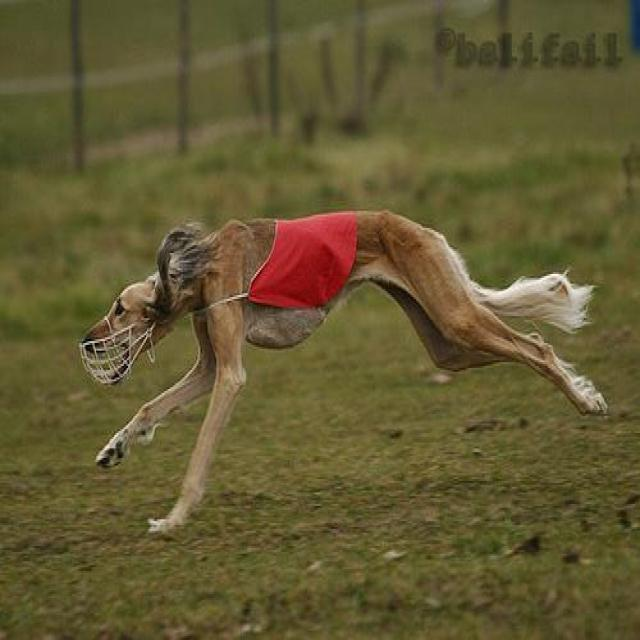saluki: (76, 203, 614, 535)
